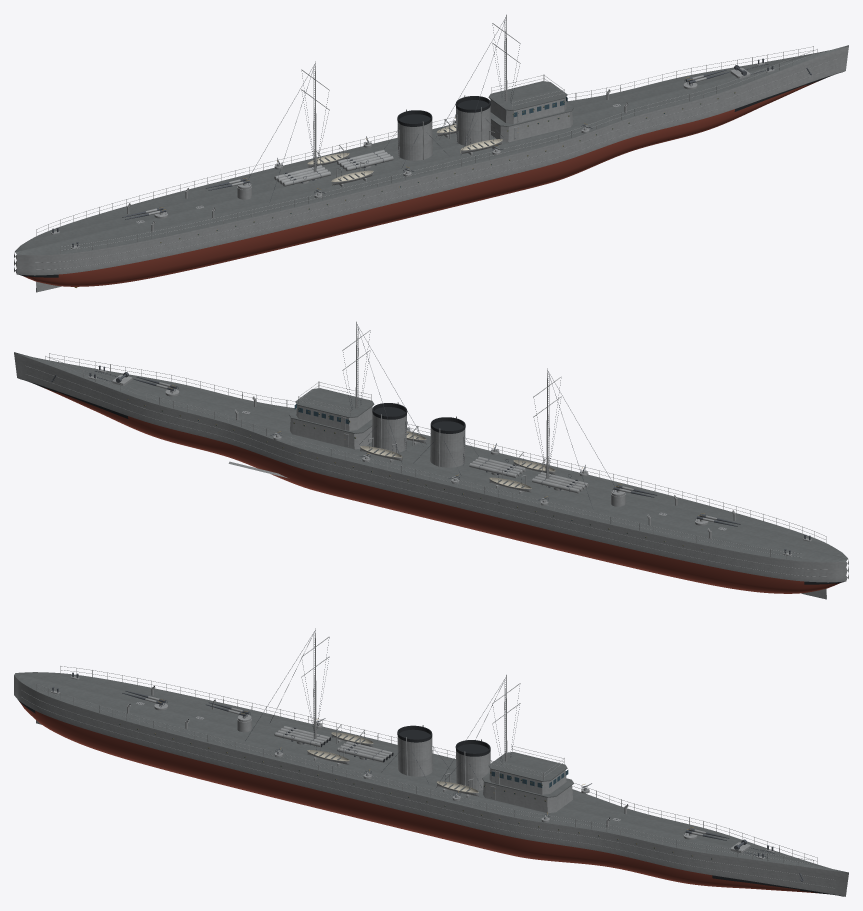
File: mare_dd31.glb
The picture shows the model from 3 angles, top to bottom: view 1: azimuth 30°, elevation 25°; view 2: azimuth 150°, elevation 25°; view 3: azimuth 330°, elevation 25°; orthographic projection.
Parts seen in each view (by area): view 1: Lampo torpedo destroyer; view 2: Lampo torpedo destroyer; view 3: Lampo torpedo destroyer.
Boxes of the visible parts, <box> form: Lampo torpedo destroyer: <box>14,14,848,292</box>; Lampo torpedo destroyer: <box>14,321,848,599</box>; Lampo torpedo destroyer: <box>14,628,848,896</box>.
Size of the model in its own units: 119 by 22.52 by 11.96.
8 materials, 2 textured.
